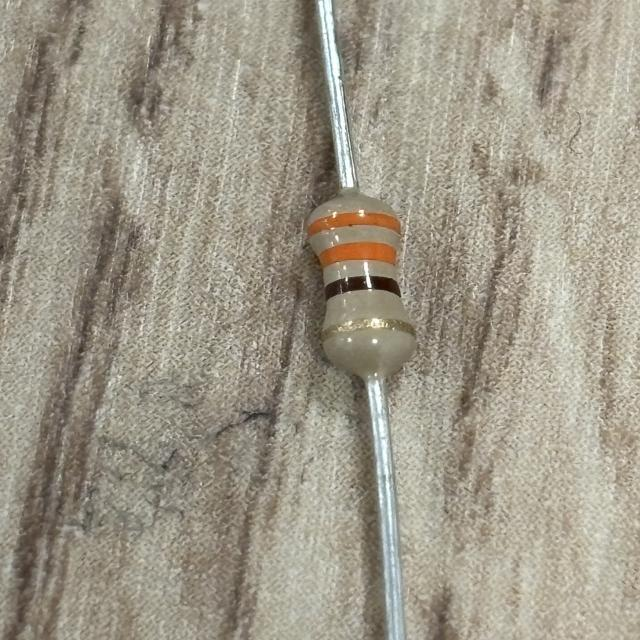resistor: (299, 202, 425, 367)
